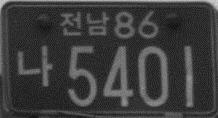0: (136, 45, 170, 107)
1: (181, 42, 197, 110)
4: (101, 44, 134, 107)
5: (65, 44, 98, 108)
6: (137, 10, 159, 39)
8: (114, 9, 134, 39)
나: (16, 43, 52, 87)
전남_O: (59, 10, 108, 37)
